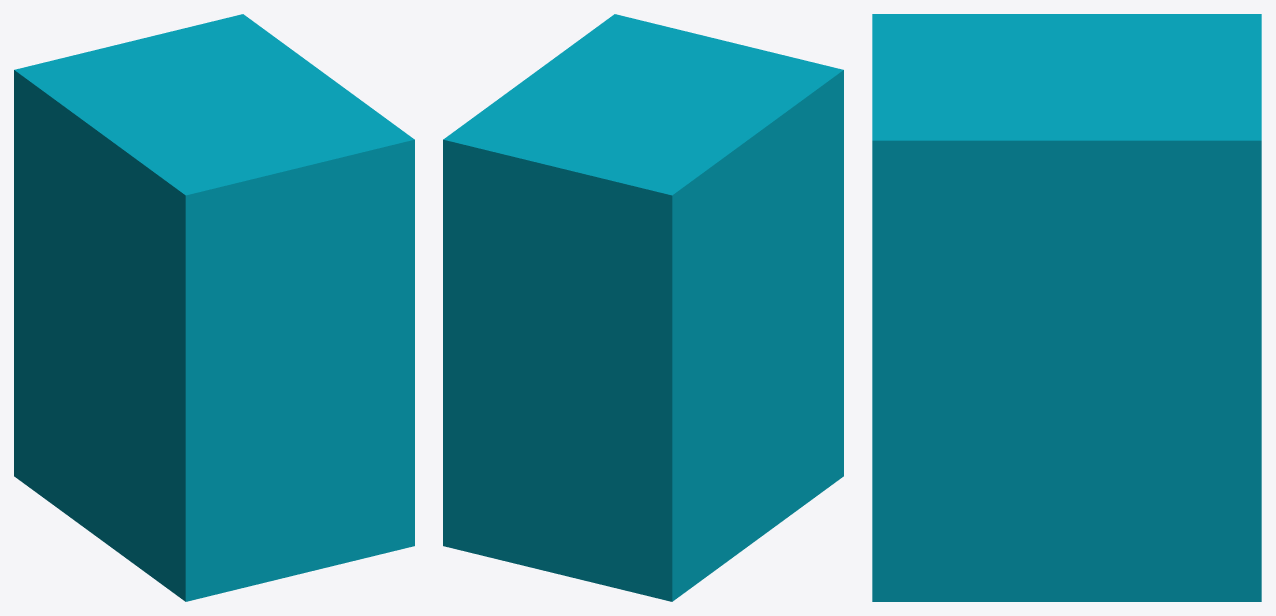
Rendered from Generic 19RU Device.glb.
The picture shows the model from 3 angles, left to right: view 1: azimuth 30°, elevation 25°; view 2: azimuth 150°, elevation 25°; view 3: azimuth 270°, elevation 25°; orthographic projection. The views are drawn at different scales.
Visible parts, largest first — view 1: Mesh_Mesh_head_geo.001_lambert2SG.001; view 2: Mesh_Mesh_head_geo.001_lambert2SG.001; view 3: Mesh_Mesh_head_geo.001_lambert2SG.001.
Part boxes in pixels (<box>): Mesh_Mesh_head_geo.001_lambert2SG.001: <box>14,14,414,601</box>; Mesh_Mesh_head_geo.001_lambert2SG.001: <box>443,14,843,601</box>; Mesh_Mesh_head_geo.001_lambert2SG.001: <box>872,14,1261,601</box>.
Bounding box in the file's own units: 19 × 32.22 × 24.66.
